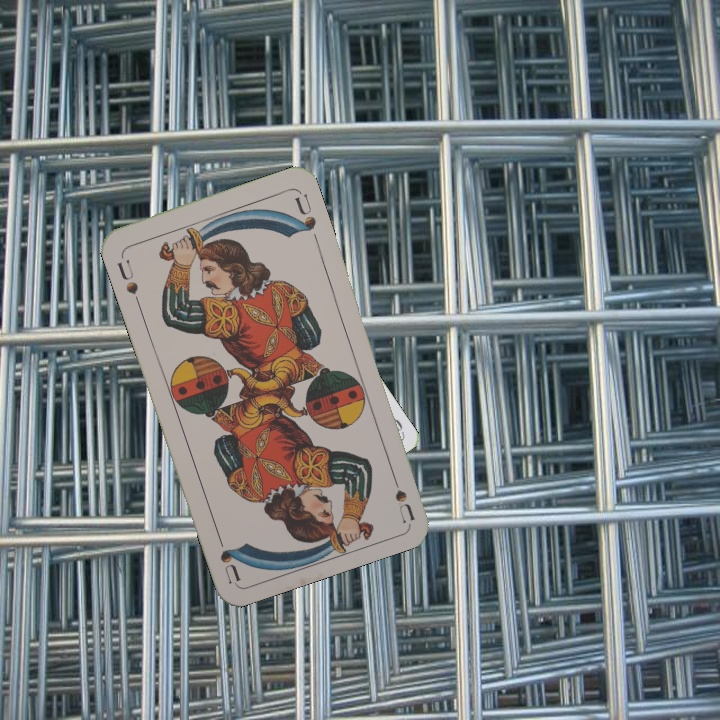SU: (386, 465, 417, 524), (113, 255, 143, 308)
